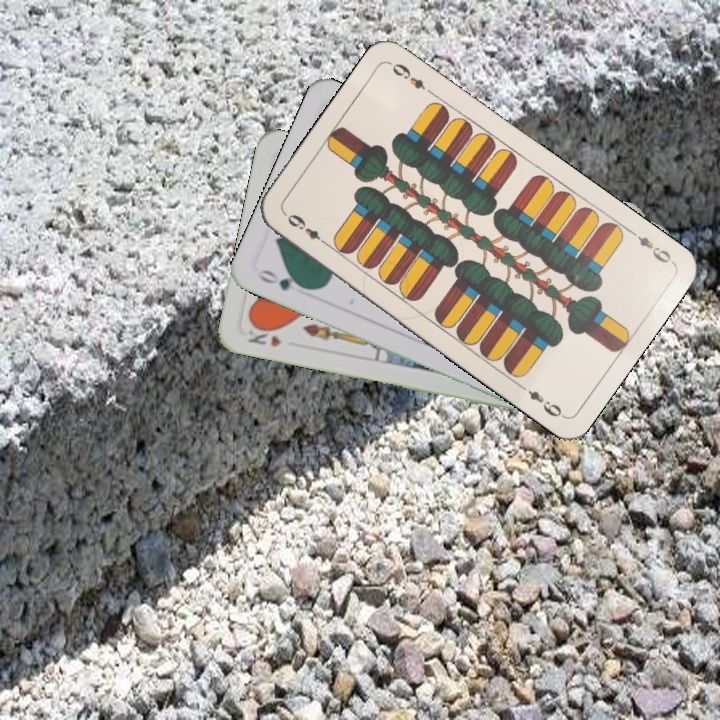E9: (625, 225, 676, 266), (283, 210, 332, 249)
GO: (253, 265, 312, 294)
HK: (244, 321, 284, 349)
